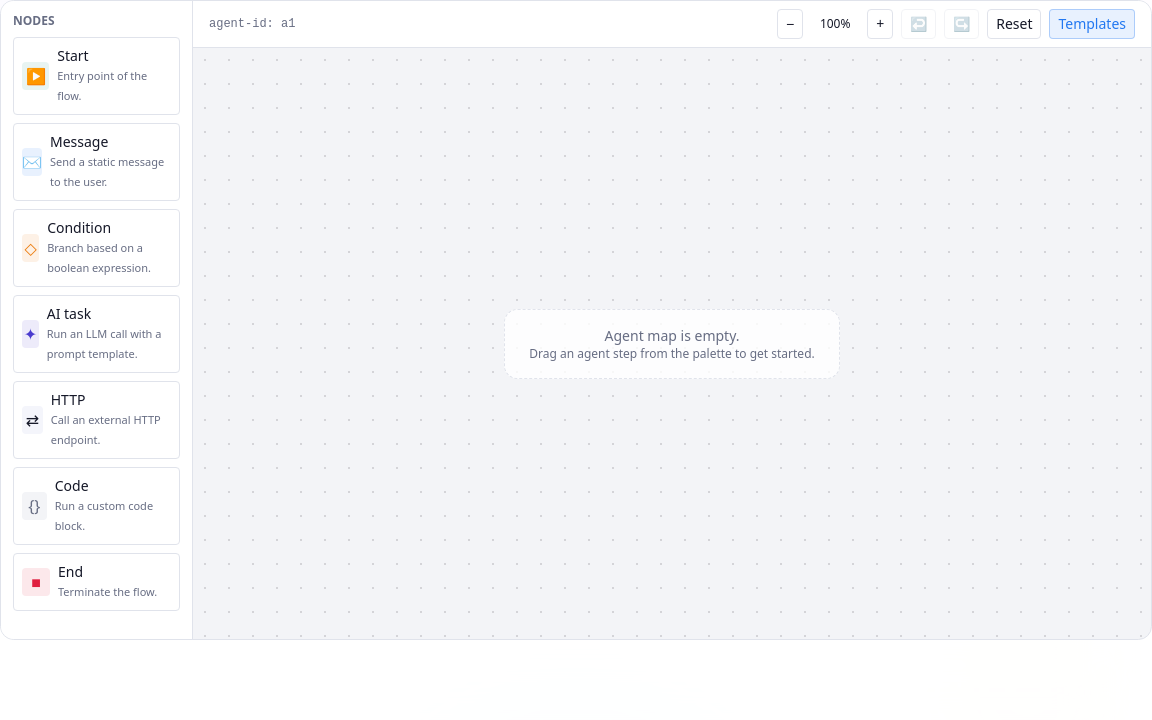
FlowEditor Templates button › applies template nodes to canvas and closes picker
The image size is (1152, 720).
Step 1. Click the button with test id "flow-templates" → coordinates (1092, 24), box [1050,9,1135,39]
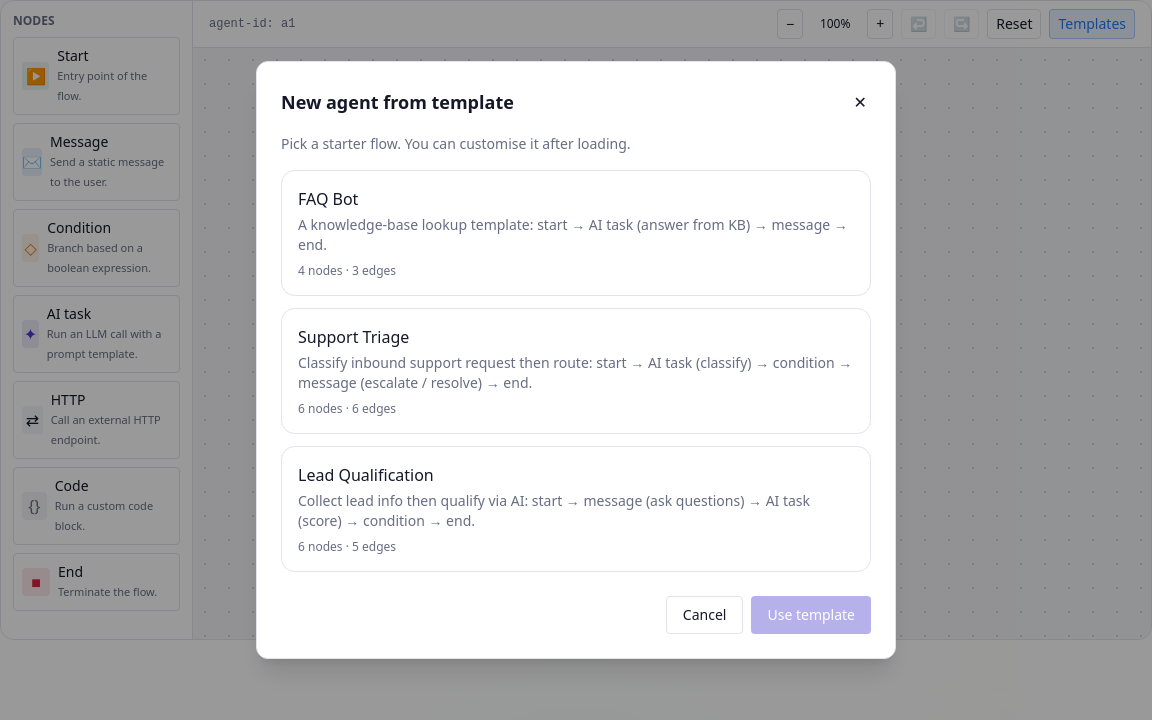
Step 2. Click the option with test id "flow-template-card-faq" → coordinates (576, 233), box [281,170,871,296]
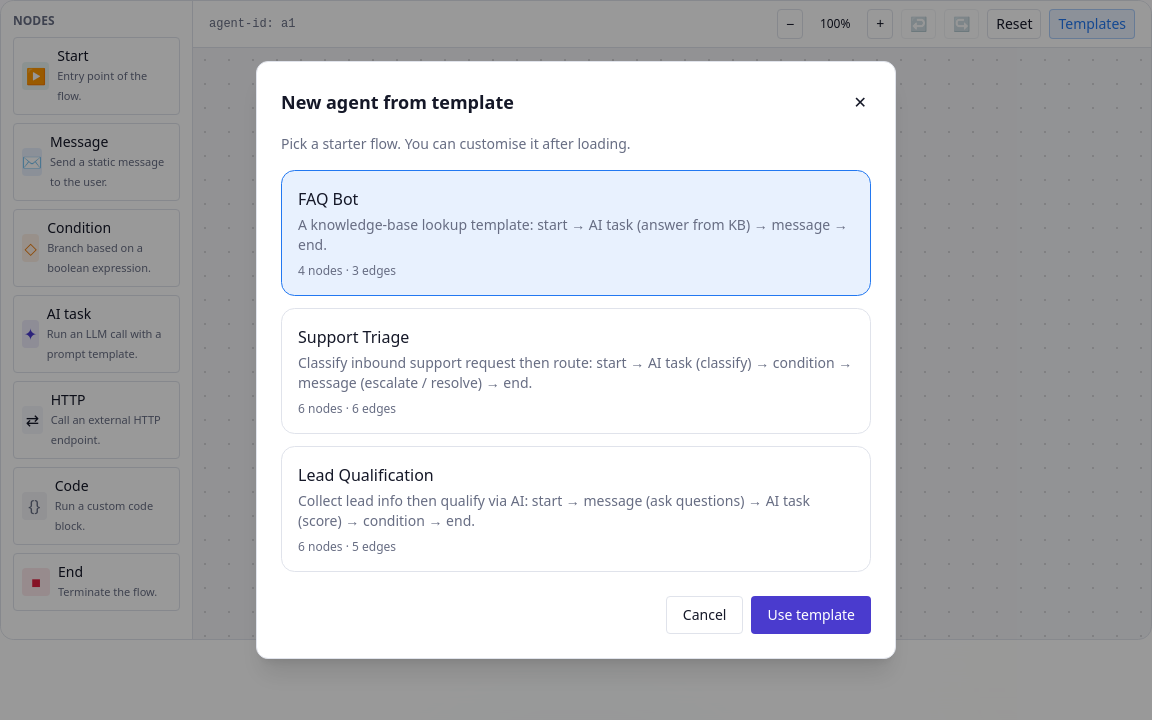
Step 3. Click the button with test id "flow-template-apply" → coordinates (811, 615), box [752,596,871,634]
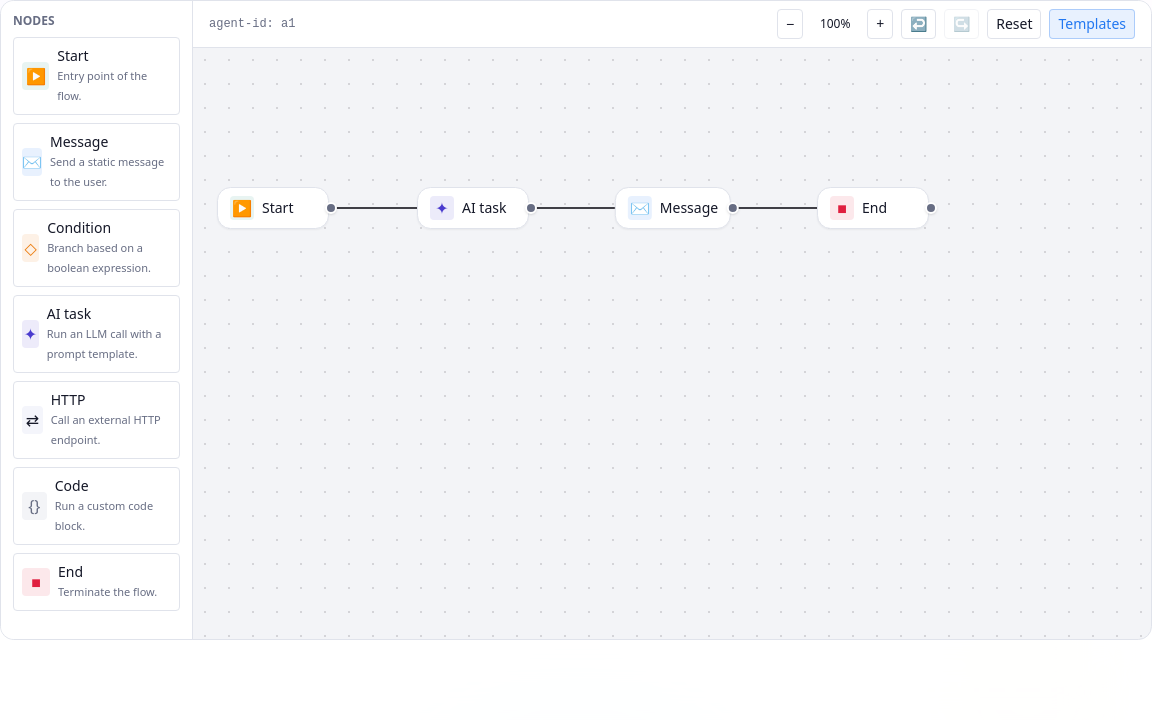
Now the dialog with test id "flow-template-picker" is gone
